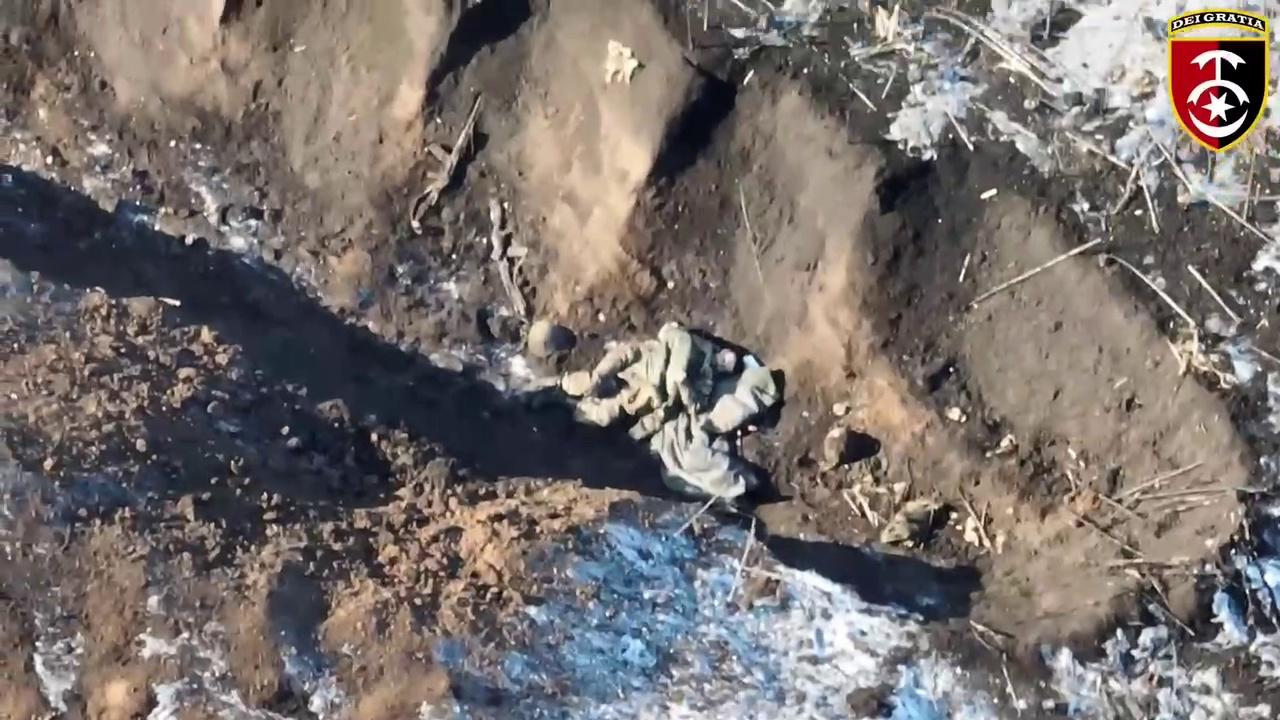person: (540, 325, 736, 431)
